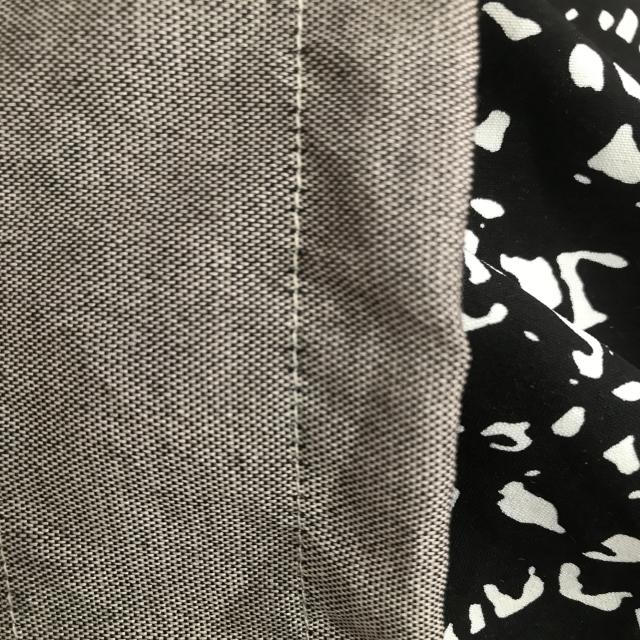good: (267, 358, 326, 588), (275, 54, 328, 298)
